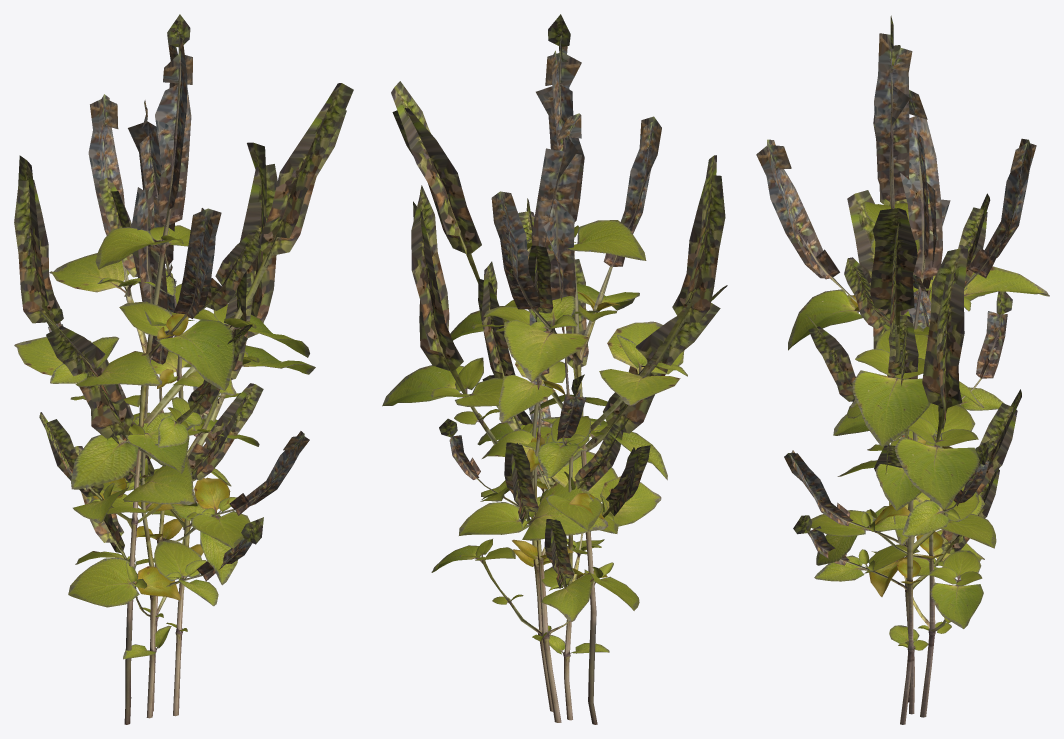
File: shrub_03.glb
3 renders of one model, left to right at view 1: azimuth 30°, elevation 25°; view 2: azimuth 150°, elevation 25°; view 3: azimuth 270°, elevation 25°, orthographic. The views are drawn at different scales.
Parts seen in each view (by area): view 1: shrub_03_0, shrub_03_1, shrub_03_2, shrub_03_3; view 2: shrub_03_0, shrub_03_1, shrub_03_2, shrub_03_3; view 3: shrub_03_1, shrub_03_0, shrub_03_2, shrub_03_3.
Part boxes in pixels (<box>): shrub_03_0: <box>14,14,353,724</box>; shrub_03_1: <box>39,100,315,716</box>; shrub_03_2: <box>48,187,263,718</box>; shrub_03_3: <box>68,263,237,711</box>; shrub_03_0: <box>391,14,725,724</box>; shrub_03_1: <box>382,113,727,711</box>; shrub_03_2: <box>477,199,618,720</box>; shrub_03_3: <box>431,312,639,722</box>; shrub_03_1: <box>784,90,1021,724</box>; shrub_03_0: <box>756,15,1049,702</box>; shrub_03_2: <box>793,182,1012,714</box>; shrub_03_3: <box>816,274,989,717</box>.
Size of the model in its own units: 0.2006 by 0.4028 by 0.1512.
1 material, 1 textured.
